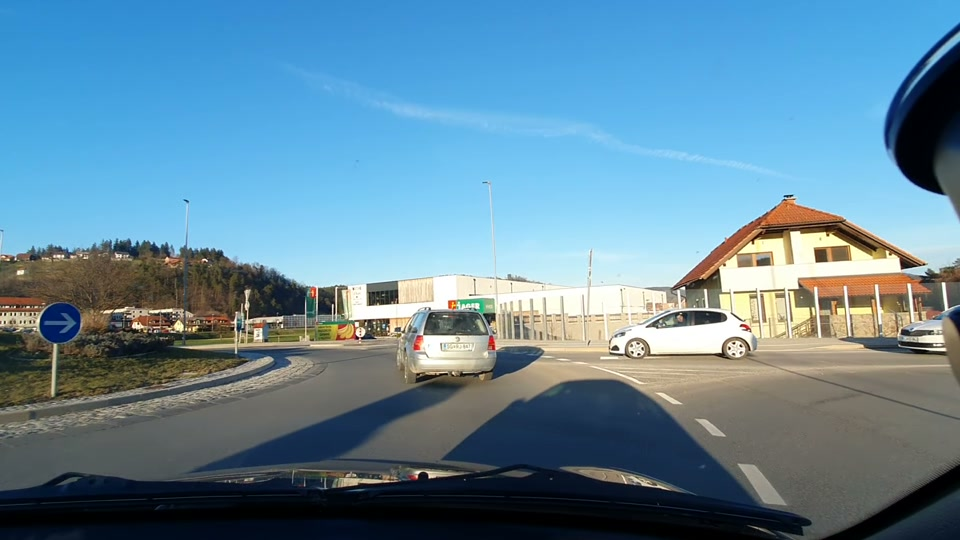vehicle_ign: (383, 304, 505, 389)
vehicle_r: (599, 300, 765, 367), (890, 293, 960, 360)
